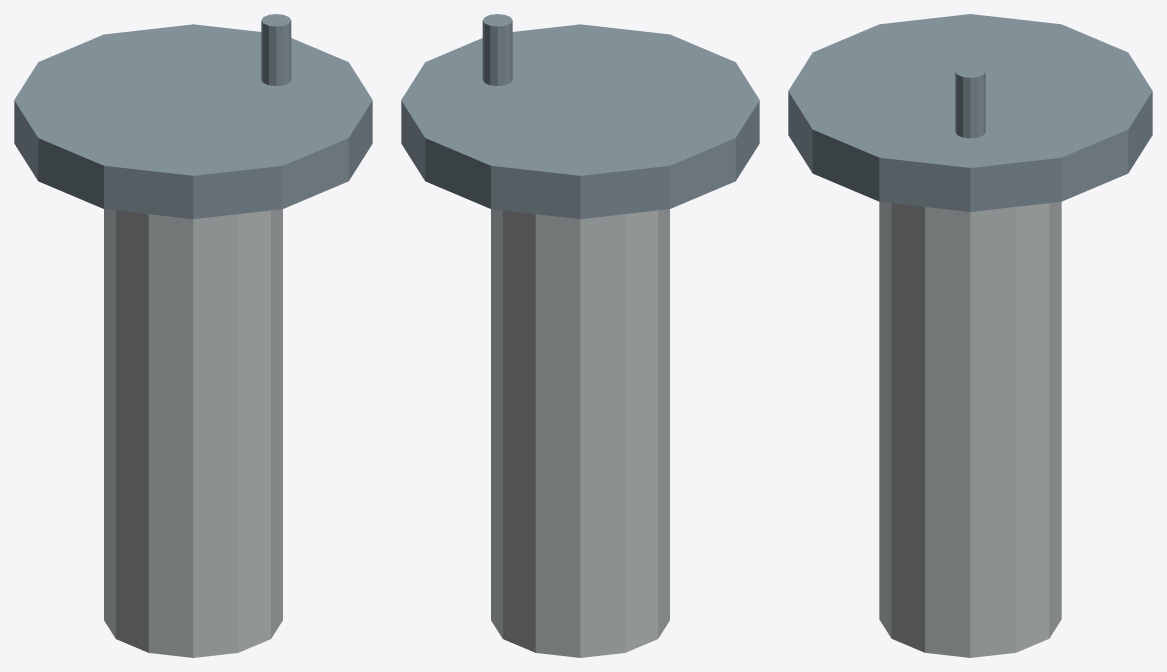
The model's file is drinking_fountain.glb.
3 views of the same model, side by side, from view 1: azimuth 30°, elevation 25°; view 2: azimuth 150°, elevation 25°; view 3: azimuth 270°, elevation 25° (orthographic).
Visible parts, largest first — view 1: drinking_fountain_000, drinking_fountain_001, drinking_fountain_002; view 2: drinking_fountain_000, drinking_fountain_001, drinking_fountain_002; view 3: drinking_fountain_000, drinking_fountain_001, drinking_fountain_002.
Boxes of the visible parts, left/top/right/bottom form: drinking_fountain_000: left=104, top=209, right=282, bottom=657; drinking_fountain_001: left=14, top=24, right=372, bottom=219; drinking_fountain_002: left=261, top=14, right=291, bottom=86; drinking_fountain_000: left=491, top=209, right=669, bottom=657; drinking_fountain_001: left=401, top=24, right=759, bottom=219; drinking_fountain_002: left=482, top=14, right=512, bottom=86; drinking_fountain_000: left=879, top=201, right=1061, bottom=657; drinking_fountain_001: left=788, top=14, right=1152, bottom=211; drinking_fountain_002: left=955, top=65, right=985, bottom=138.
Bounding box in the file's own units: 0.6 × 1.07 × 0.6.
